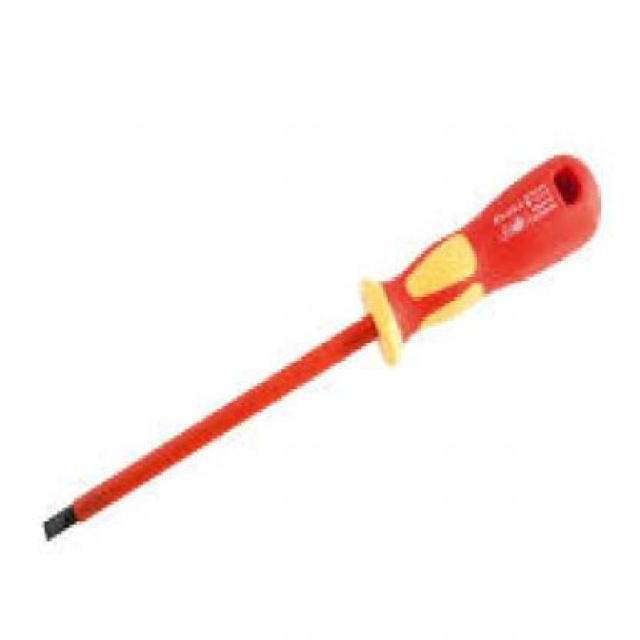screwdriver: (46, 152, 603, 552)
